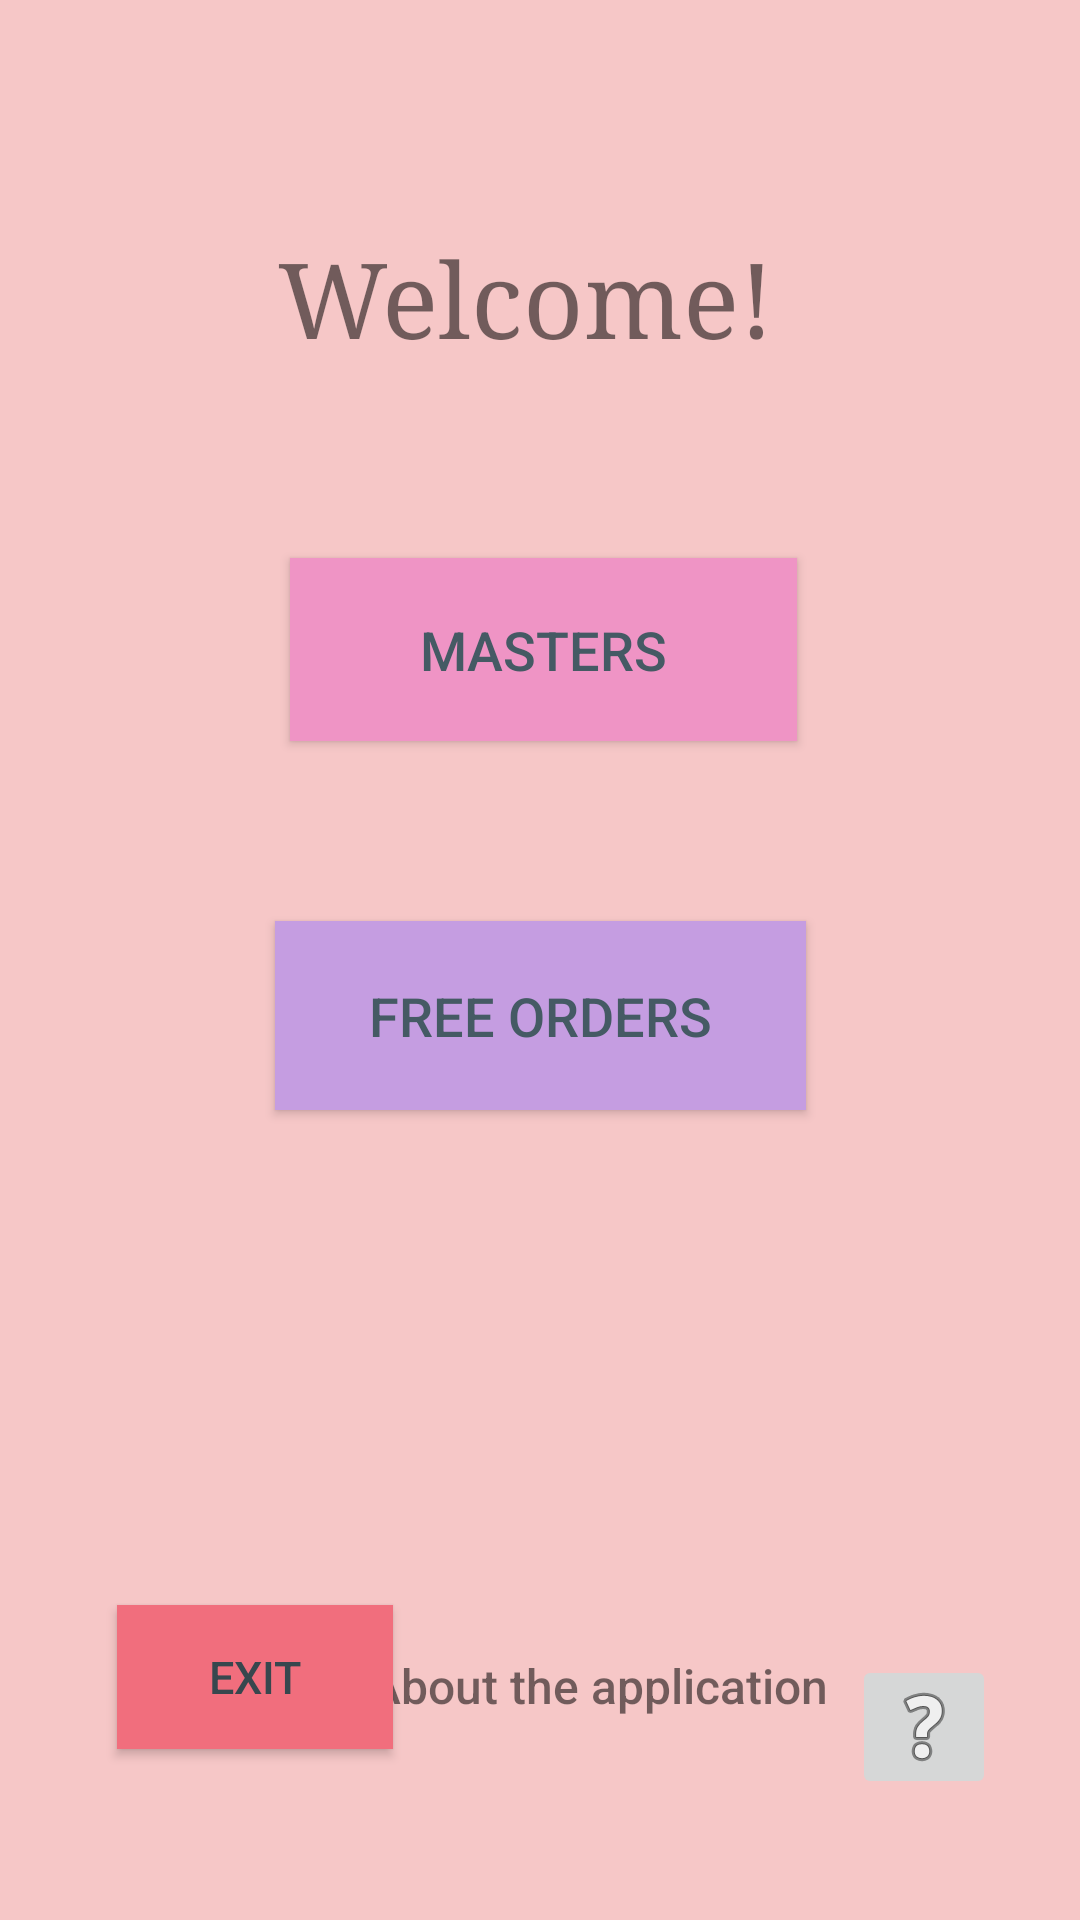

Named icons in this screenshot (1080 x 1920) and their bounding boxes, BBox(x1, y1, x2, y2):
help: BBox(864, 1673, 984, 1781)
